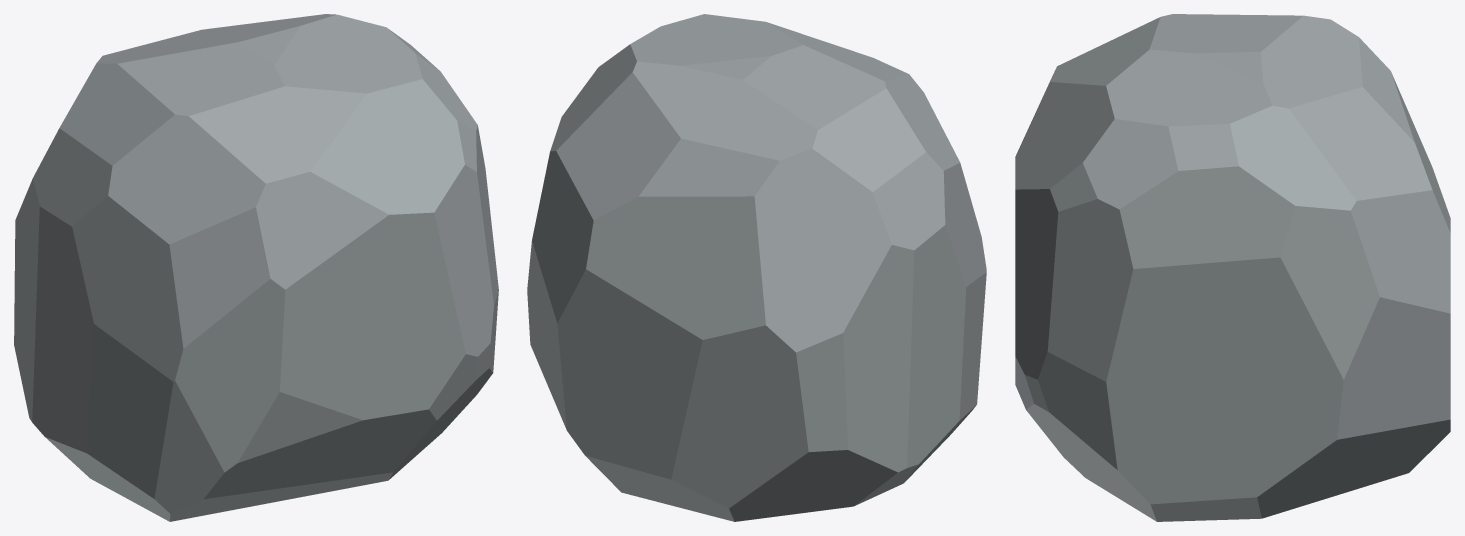
The model's file is NHP_Rock_Boulder_A2_01.fbx.
3 views of the same model, side by side, from view 1: azimuth 30°, elevation 25°; view 2: azimuth 150°, elevation 25°; view 3: azimuth 270°, elevation 25° (orthographic). The views are drawn at different scales.
Visible parts, largest first — view 1: NHP_Rock_Boulder_A2_01; view 2: NHP_Rock_Boulder_A2_01; view 3: NHP_Rock_Boulder_A2_01.
Part boxes in pixels (x1,y1,x2,y2): NHP_Rock_Boulder_A2_01: [14, 14, 498, 521]; NHP_Rock_Boulder_A2_01: [527, 14, 986, 521]; NHP_Rock_Boulder_A2_01: [1015, 14, 1450, 521].
Size of the model in its own units: 1.37 by 1.37 by 1.37.
